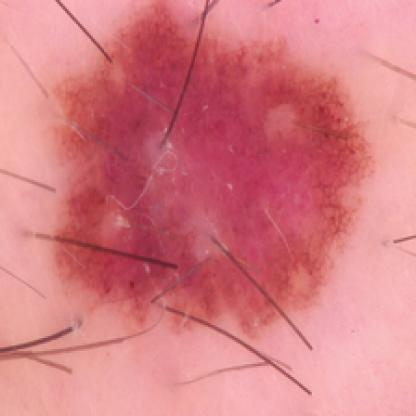benign: (47, 13, 375, 332)
